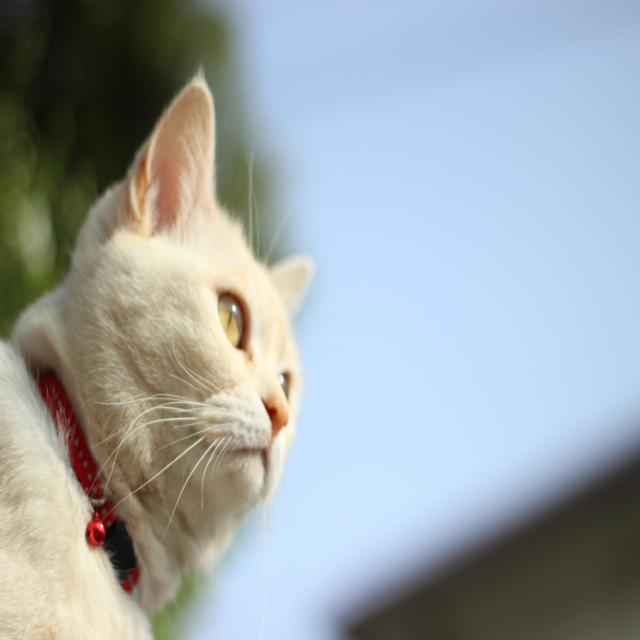Cat: (0, 62, 324, 637)
